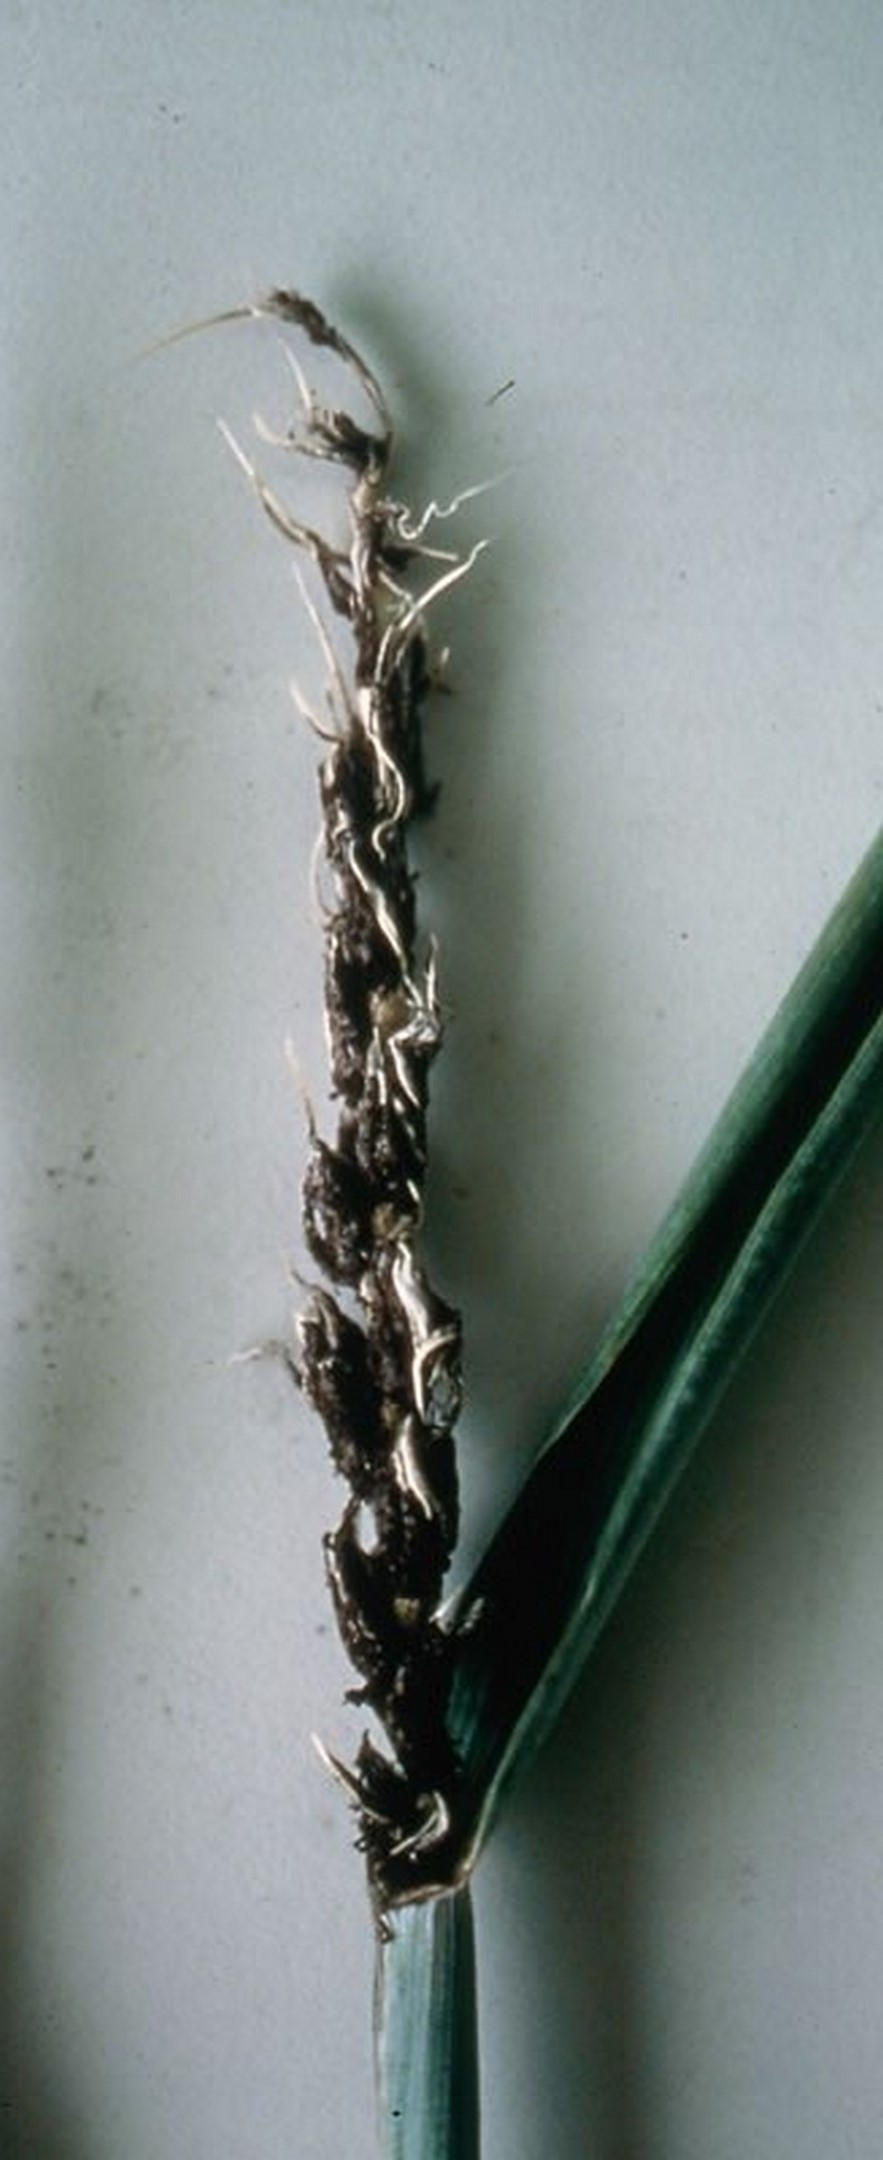Wheat Loose Smut: (189, 347, 496, 1749)
